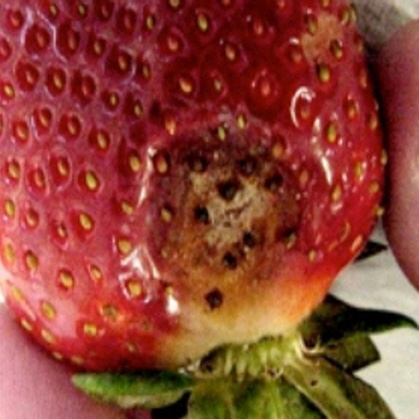Anthracnose_FR: (127, 109, 311, 293)
